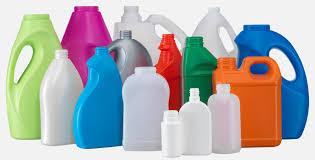Container for household chemicals: (128, 7, 310, 150), (132, 61, 252, 157), (7, 9, 67, 144), (68, 8, 125, 148)
